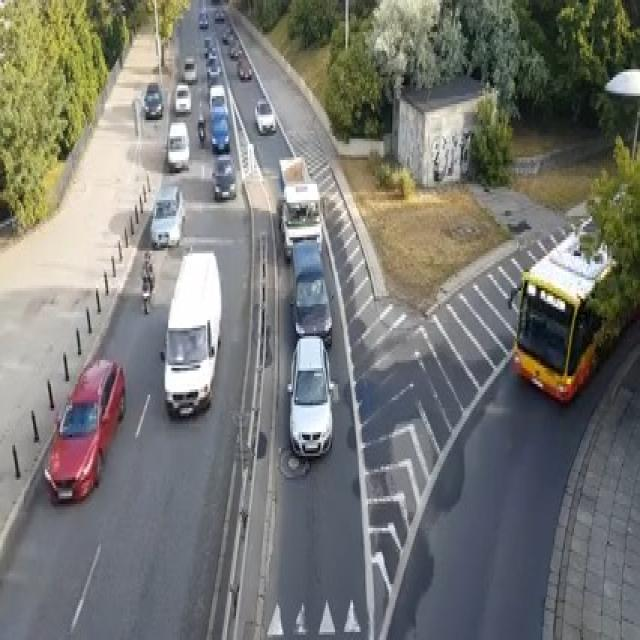bus: (508, 216, 617, 403), (161, 248, 221, 419)
car: (42, 357, 125, 504), (286, 333, 334, 459), (288, 240, 332, 347), (280, 181, 322, 259), (150, 184, 185, 248), (210, 152, 236, 200), (167, 120, 189, 171), (209, 107, 230, 152), (141, 80, 164, 117), (254, 96, 275, 133), (173, 82, 191, 114), (209, 82, 227, 114), (182, 56, 197, 83), (206, 56, 221, 77), (238, 59, 252, 80), (228, 42, 242, 58), (221, 27, 233, 42), (198, 10, 208, 27), (207, 45, 218, 59), (213, 8, 224, 21)
